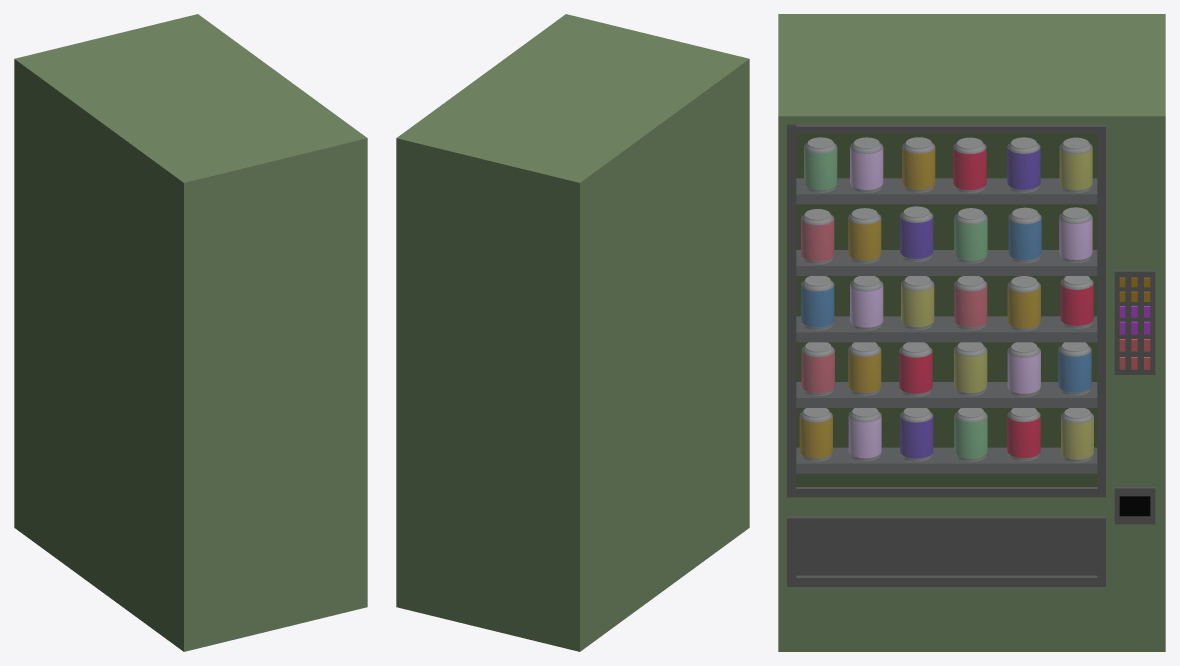
The model's file is MachineSoda_02.fbx.
3 views of the same model, side by side, from view 1: azimuth 30°, elevation 25°; view 2: azimuth 150°, elevation 25°; view 3: azimuth 270°, elevation 25° (orthographic). The views are drawn at different scales.
Parts seen in each view (by area): view 1: MachineSoda02; view 2: MachineSoda02; view 3: MachineSoda02.
Boxes of the visible parts, x1,y1,x2,y2 form: MachineSoda02: [14, 14, 367, 651]; MachineSoda02: [396, 14, 749, 651]; MachineSoda02: [778, 14, 1165, 651].
Size of the model in its own units: 6.57 by 15.7 by 10.29.
